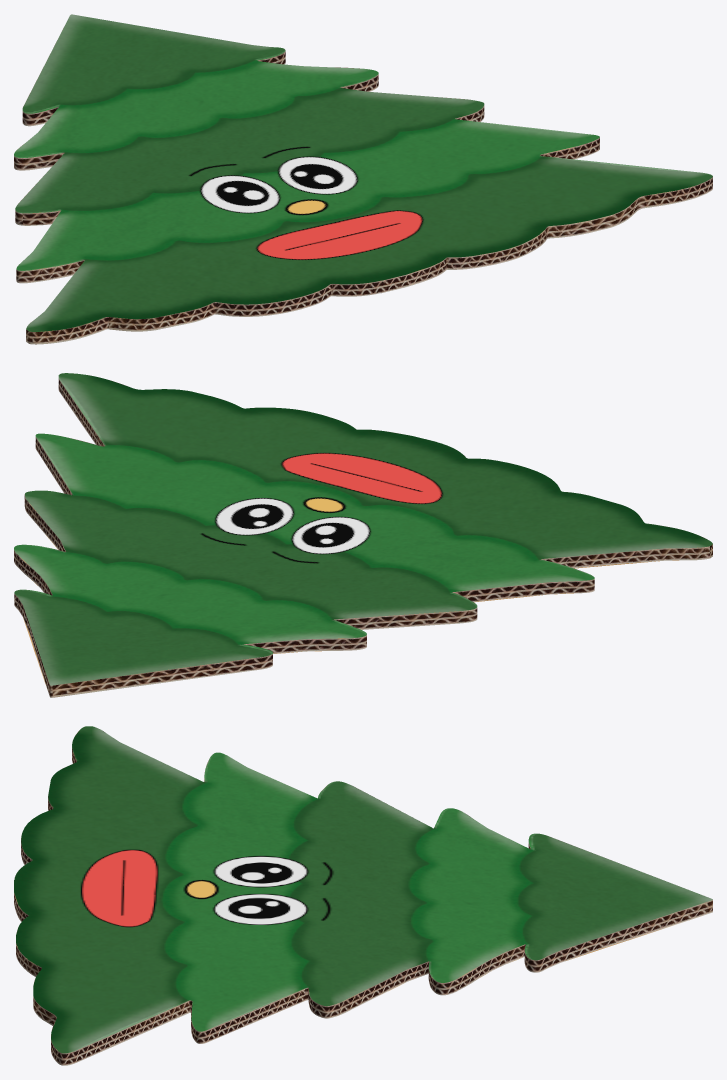
File: tree.glb
The picture shows the model from 3 angles, top to bottom: view 1: azimuth 30°, elevation 25°; view 2: azimuth 150°, elevation 25°; view 3: azimuth 270°, elevation 25°; orthographic projection.
Parts seen in each view (by area): view 1: Tree; view 2: Tree; view 3: Tree.
Part boxes in pixels (x1,y1,x2,y2): Tree: (14, 14, 712, 344); Tree: (14, 373, 712, 697); Tree: (14, 726, 712, 1065).
Bounding box in the file's own units: 13.89 × 0.2461 × 12.54.
Materials: 1 (1 with a texture image).
